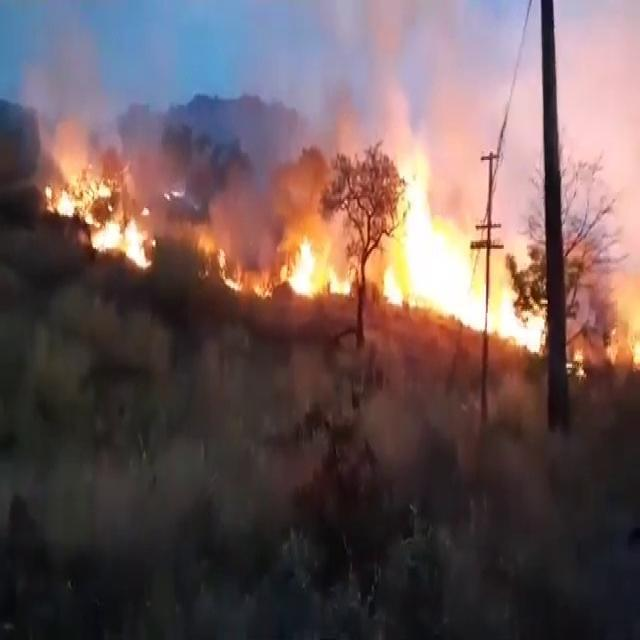Fire: (371, 174, 549, 348), (282, 234, 350, 298), (86, 215, 154, 269), (48, 165, 112, 222), (610, 294, 640, 366), (215, 238, 244, 295), (252, 276, 272, 300)
Smoke: (0, 296, 326, 572), (275, 0, 548, 251), (11, 7, 272, 256), (3, 426, 336, 552), (557, 0, 640, 268), (28, 0, 126, 153), (208, 138, 331, 240), (359, 330, 431, 488), (210, 150, 268, 244), (322, 66, 370, 168)
